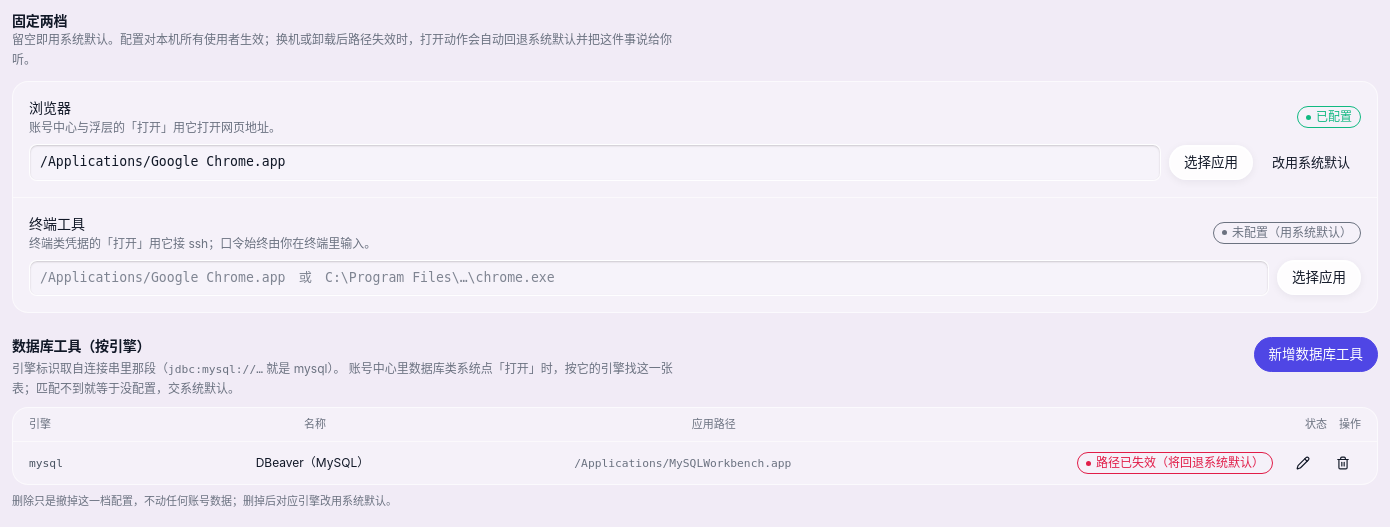
Test case: 数据库工具清单 › 取消那一步把「确认删除」收回去，什么都不删
Expected: the field named "浏览器应用路径" is shown, left=29, top=144, right=1161, bottom=181
Click the button named "删除 DBeaver（MySQL）": x=1343, y=463 left=1325, top=450, right=1361, bottom=476
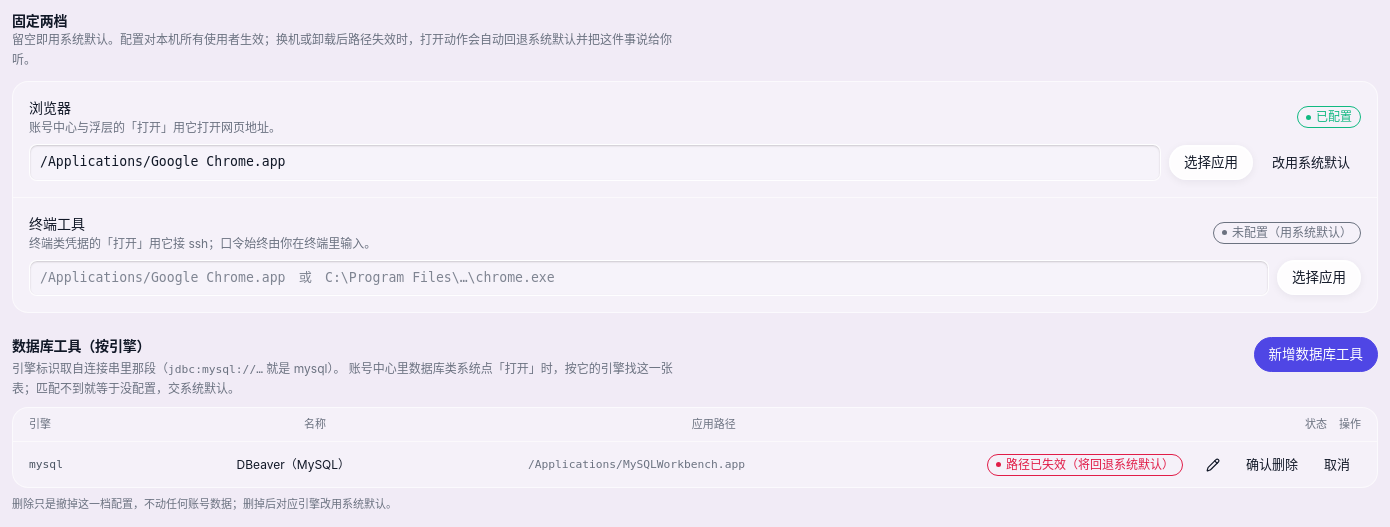
Click the button "取消": x=1337, y=465 left=1313, top=450, right=1361, bottom=479
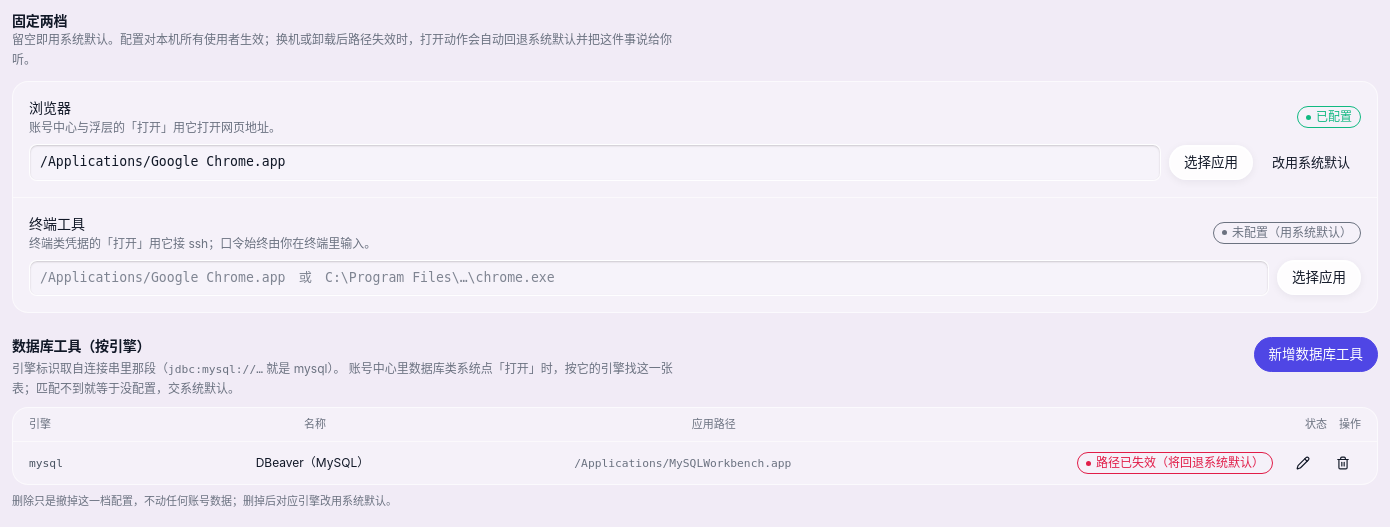
Now the button named "删除 DBeaver（MySQL）" is shown, box left=1325, top=450, right=1361, bottom=476
